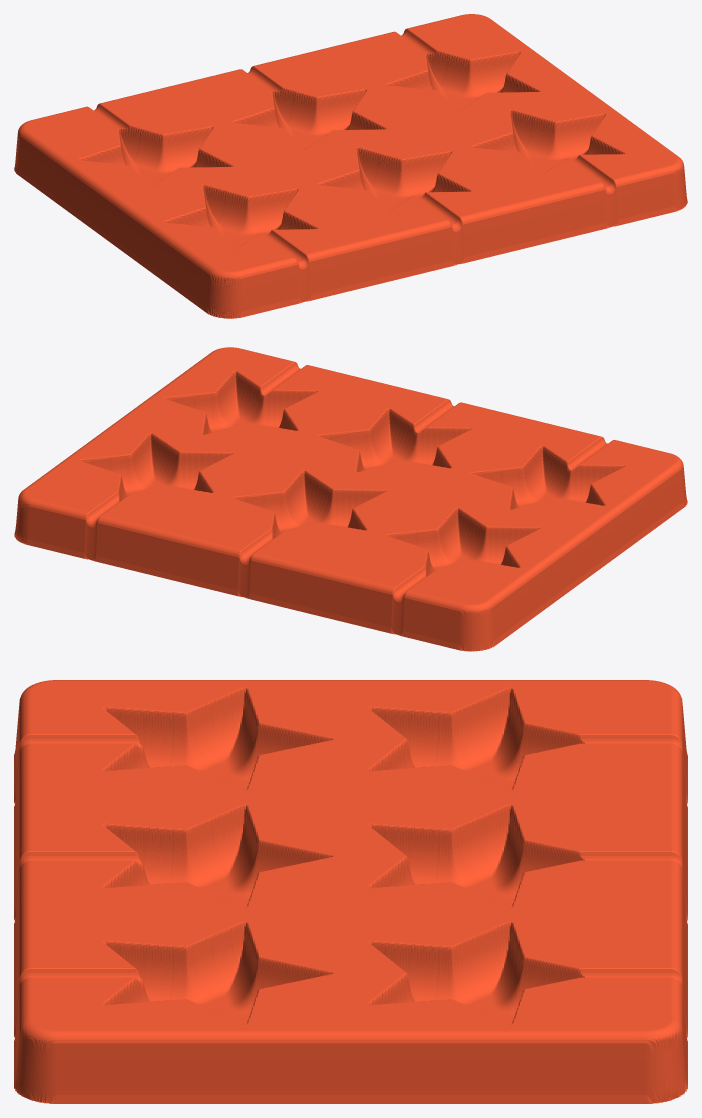
File: mold.glb
3 views of the same model, one above another, from view 1: azimuth 30°, elevation 25°; view 2: azimuth 150°, elevation 25°; view 3: azimuth 270°, elevation 25° (orthographic). The views are drawn at different scales.
Parts seen in each view (by area): view 1: geometry_0; view 2: geometry_0; view 3: geometry_0.
Part boxes in pixels (x1,y1,x2,y2): geometry_0: (14,14,687,318); geometry_0: (14,347,687,651); geometry_0: (14,680,687,1103).
Size of the model in its own units: 0.1824 by 0.0155 by 0.1428.
